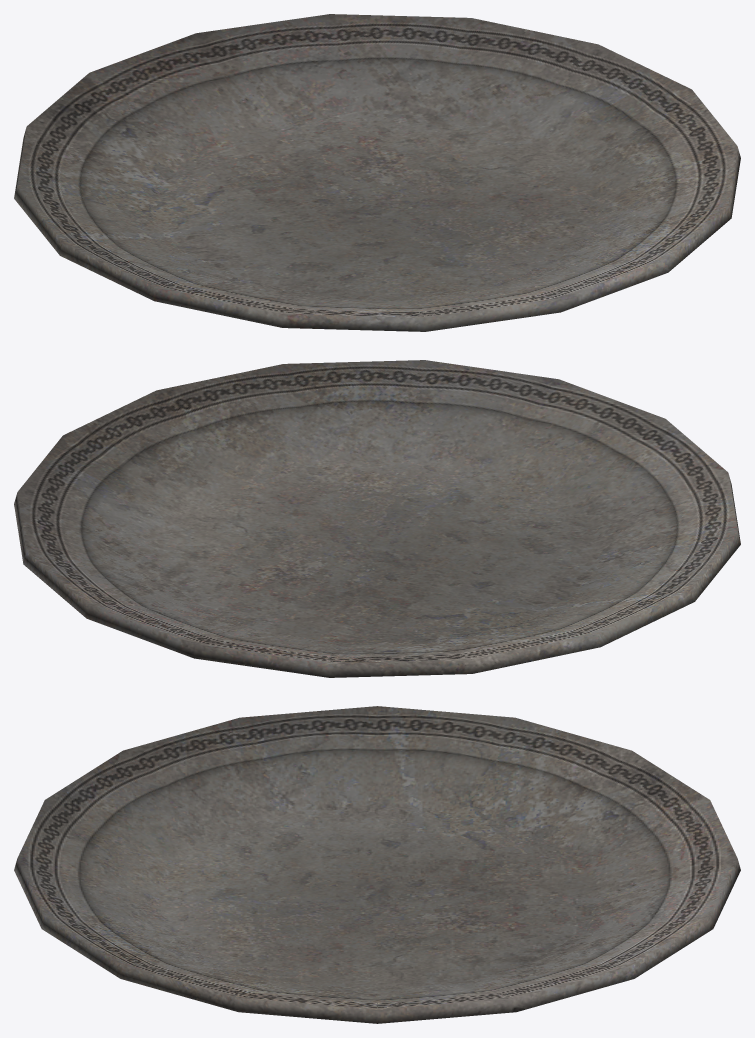
The model's file is plate1.fbx.
3 renders of one model, top to bottom at view 1: azimuth 30°, elevation 25°; view 2: azimuth 150°, elevation 25°; view 3: azimuth 270°, elevation 25°, orthographic.
Visible parts, largest first — view 1: pCylinder26; view 2: pCylinder26; view 3: pCylinder26.
Part boxes in pixels (x1=…): pCylinder26: x1=14, y1=14, x2=740, y2=331; pCylinder26: x1=14, y1=360, x2=740, y2=677; pCylinder26: x1=14, y1=706, x2=740, y2=1023.
Bounding box in the file's own units: 0.3647 × 0.0307 × 0.3647.
